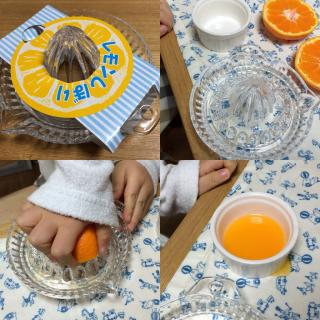Orange: (262, 0, 318, 48), (294, 34, 320, 95)
